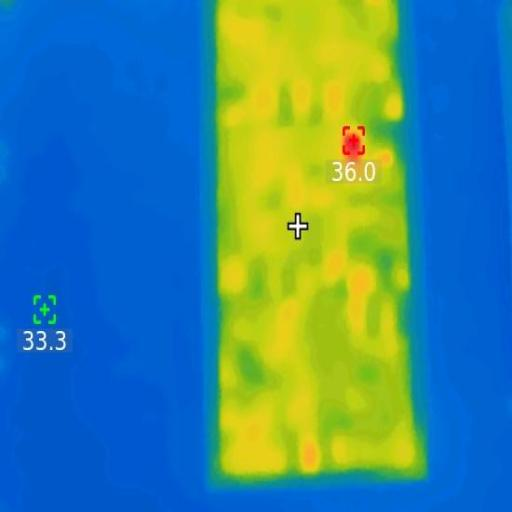hotspot: (342, 128, 364, 158)
